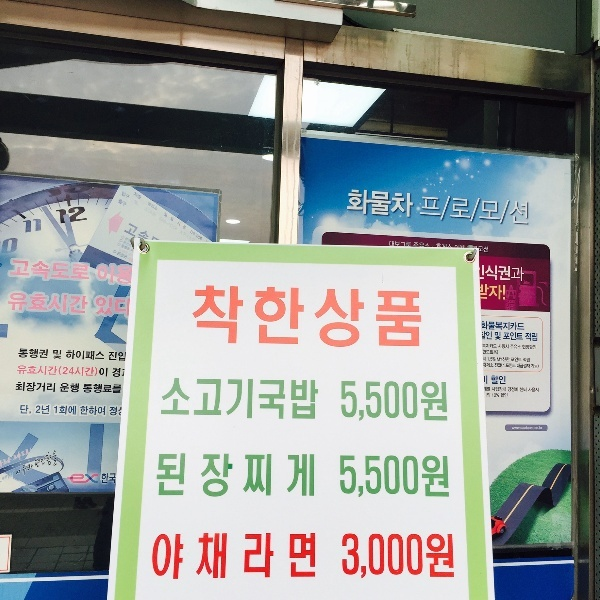text: (209, 283, 224, 351), (225, 283, 240, 351), (241, 283, 256, 351), (257, 283, 272, 351), (273, 283, 288, 351), (289, 283, 304, 351), (305, 283, 320, 351), (321, 283, 336, 351), (337, 283, 352, 351), (353, 283, 368, 351), (369, 283, 384, 351), (385, 283, 400, 351), (401, 283, 416, 351), (194, 283, 208, 351), (161, 533, 176, 582), (177, 533, 192, 582), (193, 533, 208, 582), (209, 533, 224, 582), (225, 533, 240, 582), (241, 533, 256, 582), (257, 533, 272, 582), (273, 533, 288, 582), (289, 533, 304, 582), (161, 454, 176, 501), (177, 454, 192, 501), (193, 454, 208, 501), (209, 454, 224, 501), (225, 454, 240, 501), (241, 454, 256, 501), (257, 454, 272, 501), (273, 454, 288, 501), (289, 454, 304, 501), (353, 534, 368, 581), (369, 534, 384, 581), (385, 534, 400, 581), (401, 534, 416, 581), (417, 534, 432, 581), (433, 534, 448, 581), (353, 455, 368, 501), (369, 455, 384, 501), (385, 455, 400, 501), (401, 455, 416, 501), (417, 455, 432, 501), (433, 455, 448, 501), (433, 380, 449, 423), (353, 380, 368, 423), (369, 380, 384, 423), (385, 380, 400, 423), (401, 380, 416, 423), (417, 380, 432, 423), (177, 378, 192, 421), (193, 378, 208, 421), (209, 378, 224, 421), (225, 378, 240, 421), (241, 378, 256, 421), (257, 378, 272, 421), (273, 378, 288, 421), (289, 378, 304, 421), (305, 378, 320, 421), (339, 455, 352, 501), (305, 533, 317, 582), (513, 193, 529, 226), (305, 454, 316, 501), (433, 193, 448, 226), (449, 193, 464, 226), (465, 193, 480, 226), (481, 193, 496, 226), (497, 193, 512, 226), (341, 380, 352, 423), (342, 534, 352, 581), (353, 188, 368, 218), (369, 188, 384, 218), (385, 188, 400, 218), (401, 188, 413, 218), (34, 448, 48, 473), (417, 283, 422, 351), (17, 292, 32, 314), (33, 292, 48, 314), (49, 292, 64, 314), (65, 292, 80, 314), (17, 260, 32, 282), (33, 260, 48, 282), (49, 260, 64, 282), (65, 260, 80, 282), (113, 264, 128, 285), (169, 378, 176, 421), (65, 205, 80, 225), (423, 193, 432, 226), (154, 533, 160, 582), (17, 462, 32, 481), (97, 297, 112, 316), (113, 297, 128, 316), (449, 534, 455, 581), (99, 264, 112, 285), (497, 265, 512, 283), (17, 448, 31, 467), (481, 284, 496, 301), (3, 448, 16, 467), (3, 237, 16, 255), (49, 448, 58, 473), (513, 265, 525, 283), (130, 223, 144, 238), (81, 260, 90, 282), (485, 265, 496, 283), (55, 205, 64, 225), (33, 348, 49, 359), (2, 471, 16, 483), (81, 473, 96, 484), (17, 382, 32, 393), (33, 382, 48, 393), (65, 366, 80, 377), (81, 366, 96, 377), (497, 321, 512, 332), (81, 292, 88, 314), (482, 321, 496, 332), (497, 284, 506, 301), (81, 406, 96, 416), (97, 384, 112, 394), (65, 383, 80, 393), (33, 366, 48, 376), (81, 350, 96, 360), (513, 284, 522, 300), (449, 240, 465, 249), (67, 473, 80, 484), (19, 348, 32, 359), (18, 366, 32, 376), (81, 205, 88, 225), (23, 219, 32, 234), (33, 219, 42, 234), (401, 240, 416, 249), (417, 240, 432, 249), (433, 240, 448, 249), (101, 473, 112, 485), (65, 405, 77, 416), (10, 292, 16, 314), (513, 321, 525, 332), (67, 350, 80, 360), (113, 352, 126, 362), (504, 284, 512, 300), (482, 331, 496, 340), (149, 201, 160, 212), (20, 405, 32, 415), (36, 405, 48, 415), (84, 384, 96, 394), (100, 368, 112, 378), (179, 221, 192, 230), (53, 350, 64, 360), (165, 212, 176, 222), (55, 405, 64, 416), (193, 230, 202, 241), (389, 240, 400, 249), (97, 406, 106, 416), (113, 384, 122, 394), (49, 366, 58, 376), (349, 188, 352, 218), (529, 387, 544, 393), (513, 332, 523, 341), (129, 264, 133, 285), (135, 192, 144, 201), (119, 251, 128, 260), (497, 376, 506, 385), (529, 333, 538, 342), (113, 368, 121, 378), (97, 350, 105, 360), (499, 344, 512, 350), (49, 382, 56, 393), (497, 357, 512, 362), (504, 332, 512, 341), (13, 260, 16, 282), (483, 350, 496, 355), (483, 344, 496, 349), (513, 426, 528, 430), (484, 363, 496, 368), (532, 364, 544, 369), (120, 199, 128, 206), (481, 246, 489, 253), (529, 426, 543, 430), (59, 366, 64, 377), (501, 393, 512, 398), (517, 364, 528, 369), (503, 357, 512, 363), (113, 406, 118, 416), (497, 387, 507, 392), (113, 473, 117, 485), (520, 387, 528, 393), (529, 345, 537, 351), (159, 454, 160, 501), (449, 455, 450, 501), (487, 393, 496, 398), (487, 387, 496, 392), (491, 376, 496, 385), (513, 358, 522, 363), (487, 357, 496, 362), (513, 345, 522, 350), (497, 363, 505, 368), (129, 297, 131, 316), (522, 345, 528, 351), (497, 332, 501, 341), (123, 191, 128, 198), (123, 244, 128, 251), (97, 473, 100, 484), (61, 383, 64, 393), (109, 352, 112, 362), (513, 387, 518, 393), (525, 333, 528, 342), (523, 358, 528, 363), (124, 201, 128, 207), (124, 241, 128, 247), (129, 241, 133, 247), (508, 387, 512, 393), (506, 364, 512, 368), (110, 406, 112, 416), (492, 393, 496, 398), (33, 462, 34, 481), (17, 237, 18, 255), (497, 393, 500, 398), (493, 387, 496, 392), (129, 244, 131, 251), (478, 246, 480, 253), (126, 237, 128, 243), (129, 237, 131, 243), (513, 364, 516, 368), (97, 366, 98, 377), (191, 230, 192, 241), (49, 405, 50, 415), (529, 364, 531, 369), (510, 345, 512, 350), (495, 332, 496, 341), (127, 193, 128, 200), (129, 193, 130, 200), (495, 363, 496, 368), (529, 358, 530, 363), (511, 358, 512, 363), (497, 350, 498, 355)
